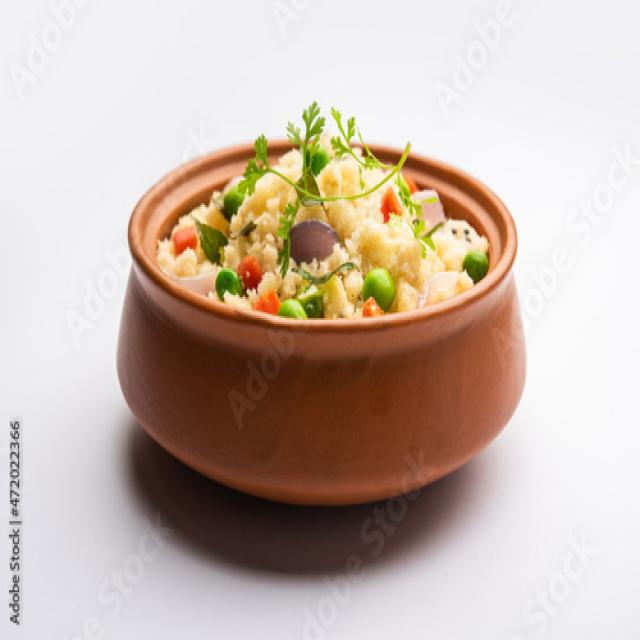UPMA: (156, 148, 493, 324)
